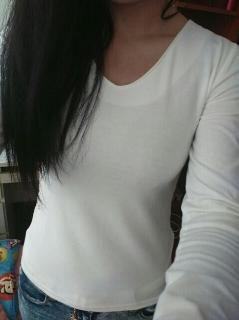long sleeve top: (0, 13, 239, 319)
